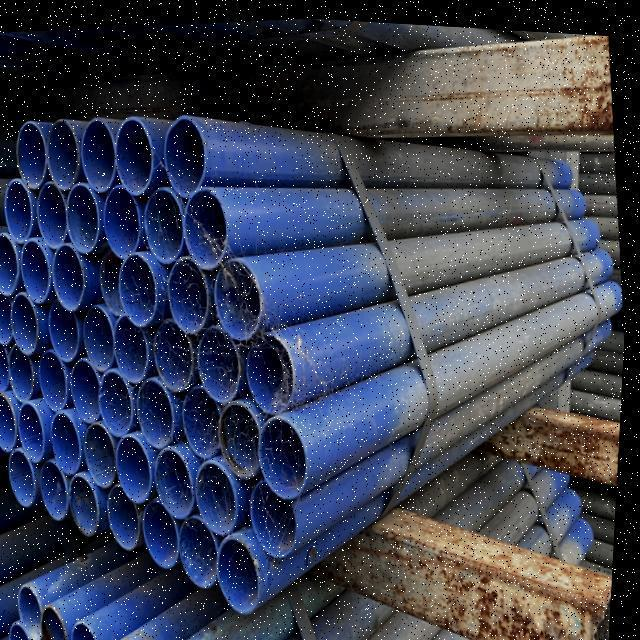pipe: (243, 325, 295, 411), (262, 411, 311, 494), (151, 310, 200, 392), (253, 471, 302, 553), (216, 250, 264, 333), (199, 321, 248, 402), (145, 480, 188, 568), (183, 182, 229, 262), (136, 375, 187, 446), (165, 112, 208, 196), (219, 396, 264, 476), (182, 506, 227, 586), (197, 456, 244, 532), (187, 370, 227, 459), (221, 532, 266, 609), (141, 182, 185, 259), (116, 112, 156, 196), (104, 179, 147, 257), (110, 470, 150, 552), (120, 248, 163, 323), (80, 115, 118, 199), (169, 252, 211, 328), (160, 441, 200, 518), (118, 308, 159, 381), (117, 427, 158, 500), (50, 282, 85, 363), (103, 363, 142, 435), (67, 172, 102, 251), (36, 452, 75, 521), (38, 169, 69, 255), (83, 299, 119, 372), (85, 414, 121, 487), (74, 348, 105, 427), (52, 238, 88, 306), (73, 467, 109, 534), (40, 343, 77, 408), (12, 281, 44, 354), (17, 123, 50, 193), (42, 122, 77, 188), (53, 408, 88, 474), (22, 398, 53, 463), (7, 338, 39, 399), (7, 174, 37, 238), (22, 236, 53, 297), (10, 444, 41, 505), (104, 242, 127, 317), (22, 582, 46, 640), (0, 387, 21, 451), (0, 227, 21, 290), (46, 603, 75, 640), (0, 280, 17, 338), (0, 337, 11, 385), (78, 623, 101, 640), (16, 625, 35, 640)
